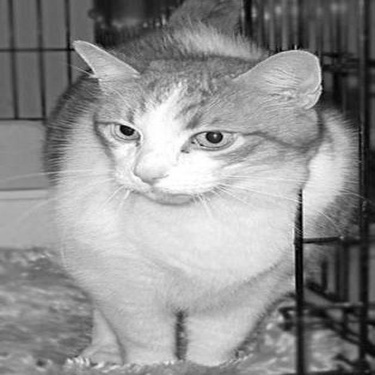cat: (43, 26, 362, 365)
